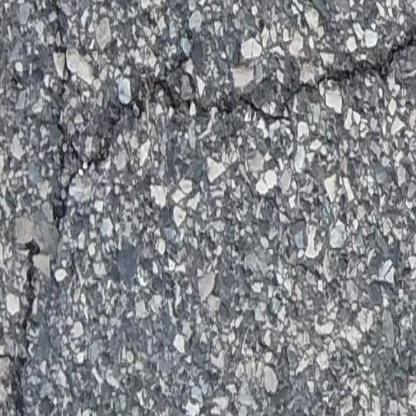Cracks: (51, 0, 416, 192), (4, 287, 34, 416), (22, 238, 45, 271)
